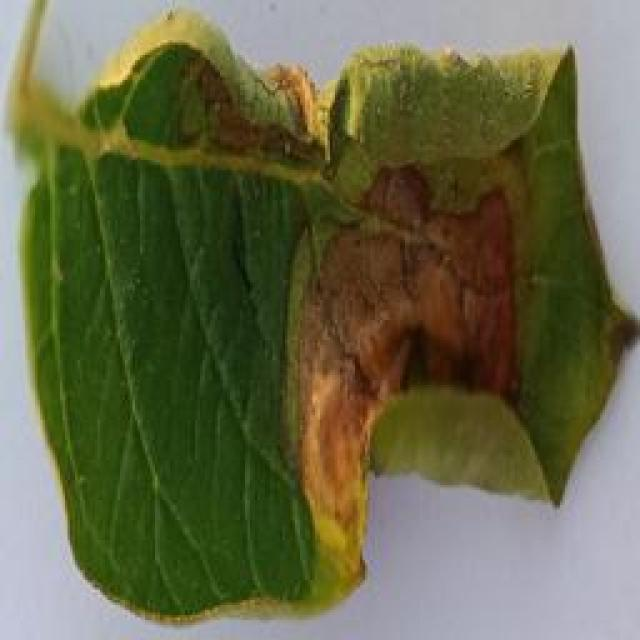Potato_Late_Blight: (6, 9, 614, 623)
